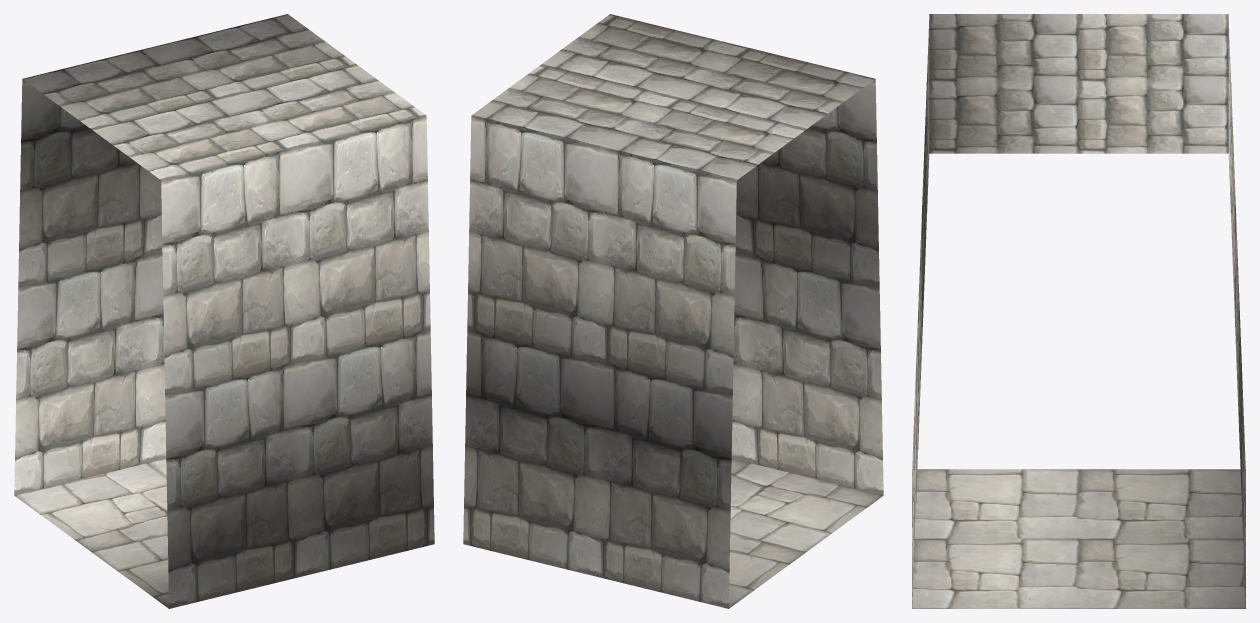
Rendered from stormwind_159.fbx.
3 renders of one model, left to right at view 1: azimuth 30°, elevation 25°; view 2: azimuth 150°, elevation 25°; view 3: azimuth 270°, elevation 25°, orthographic. The views are drawn at different scales.
Parts seen in each view (by area): view 1: stormwind_159_165, stormwind_159_47; view 2: stormwind_159_165, stormwind_159_47; view 3: stormwind_159_165, stormwind_159_47.
Boxes of the visible parts, x1=… form: stormwind_159_165: x1=14, y1=14, x2=434, y2=608; stormwind_159_47: x1=14, y1=458, x2=168, y2=608; stormwind_159_165: x1=463, y1=14, x2=883, y2=608; stormwind_159_47: x1=729, y1=458, x2=883, y2=608; stormwind_159_165: x1=912, y1=14, x2=1245, y2=607; stormwind_159_47: x1=912, y1=469, x2=1245, y2=608.
Size of the model in its own units: 8.12 by 12.34 by 8.2.
